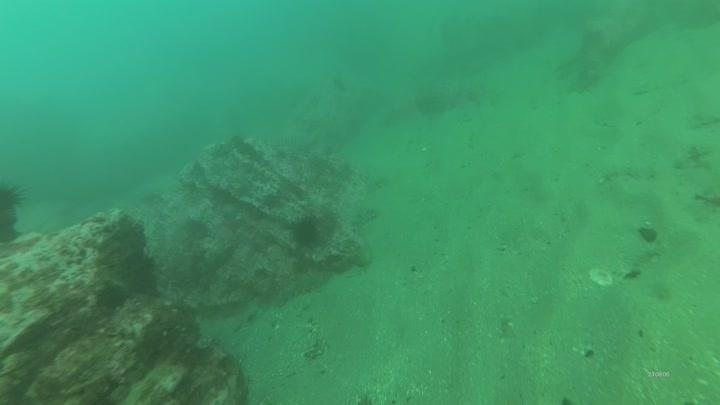echinus: (0, 177, 30, 245), (288, 213, 324, 250)
